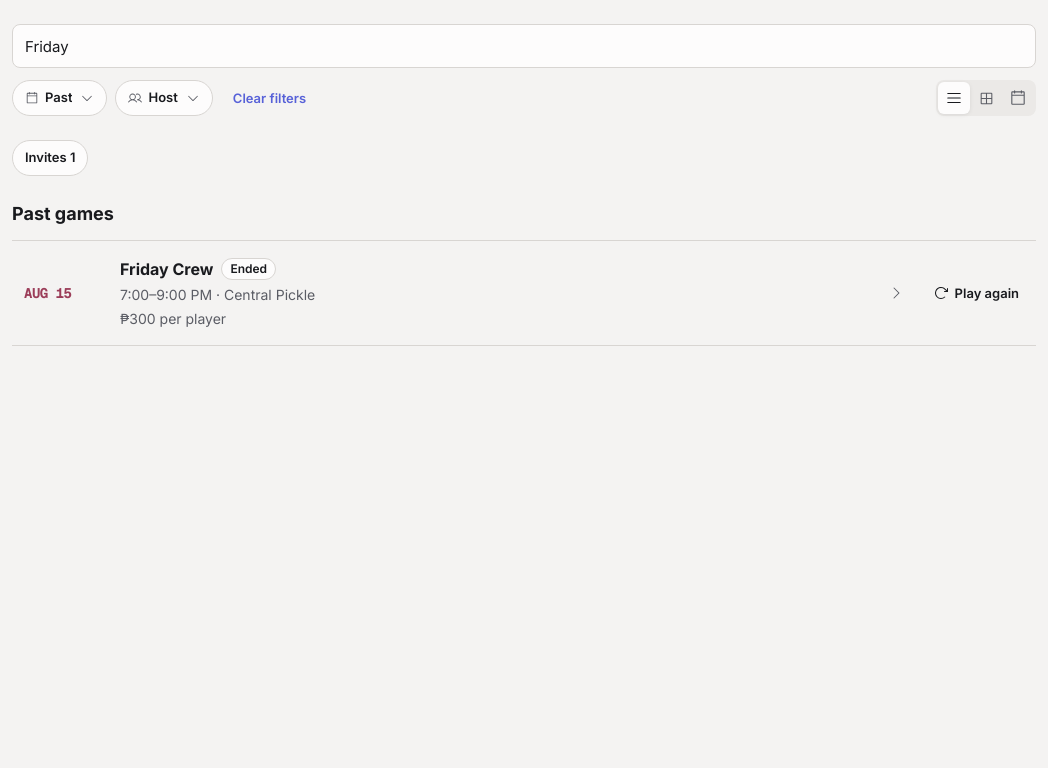
Scenario: GameCollection › keeps invitations independent from every library filter
Expected: the text "Sunday Open Play" is not shown
Expected: the heading "Friday Crew" is shown, [120, 257, 213, 281]
Step 1. Click the button "Invites 1" → coordinates (50, 158), box [12, 140, 88, 176]
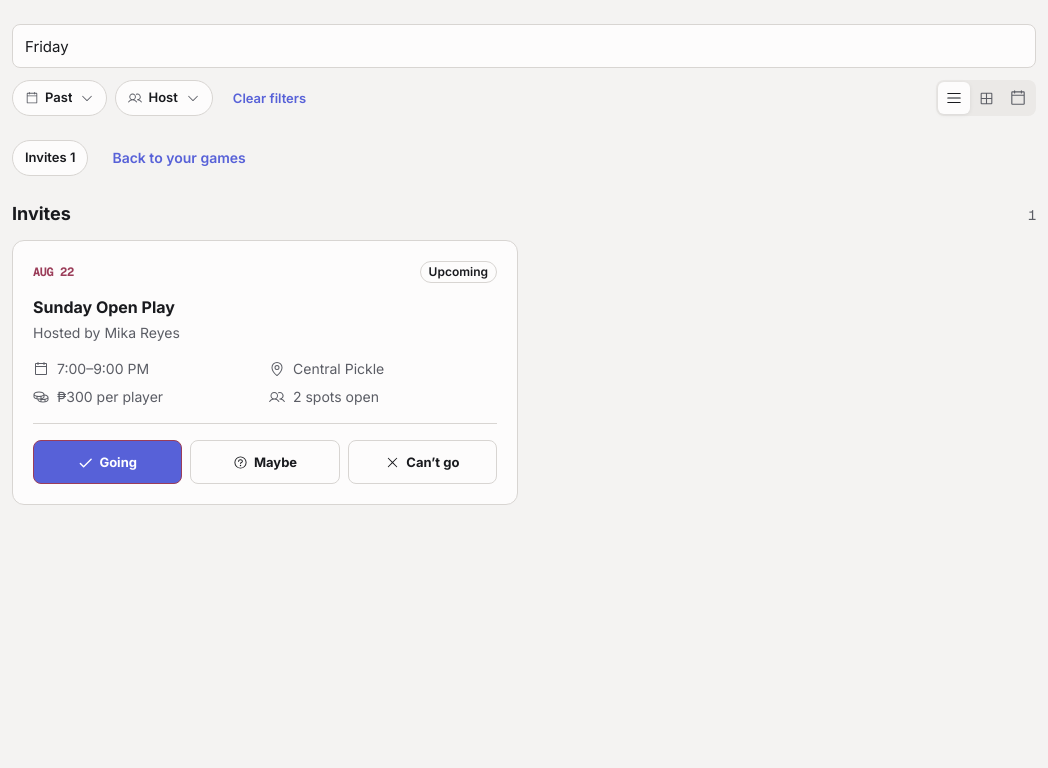
Expected: the link "Sunday Open Play" is shown, [33, 295, 175, 319]
Expected: the link "Friday Crew" is gone
Step 2. Click the button "Back to your games" → coordinates (179, 158), box [100, 140, 258, 176]
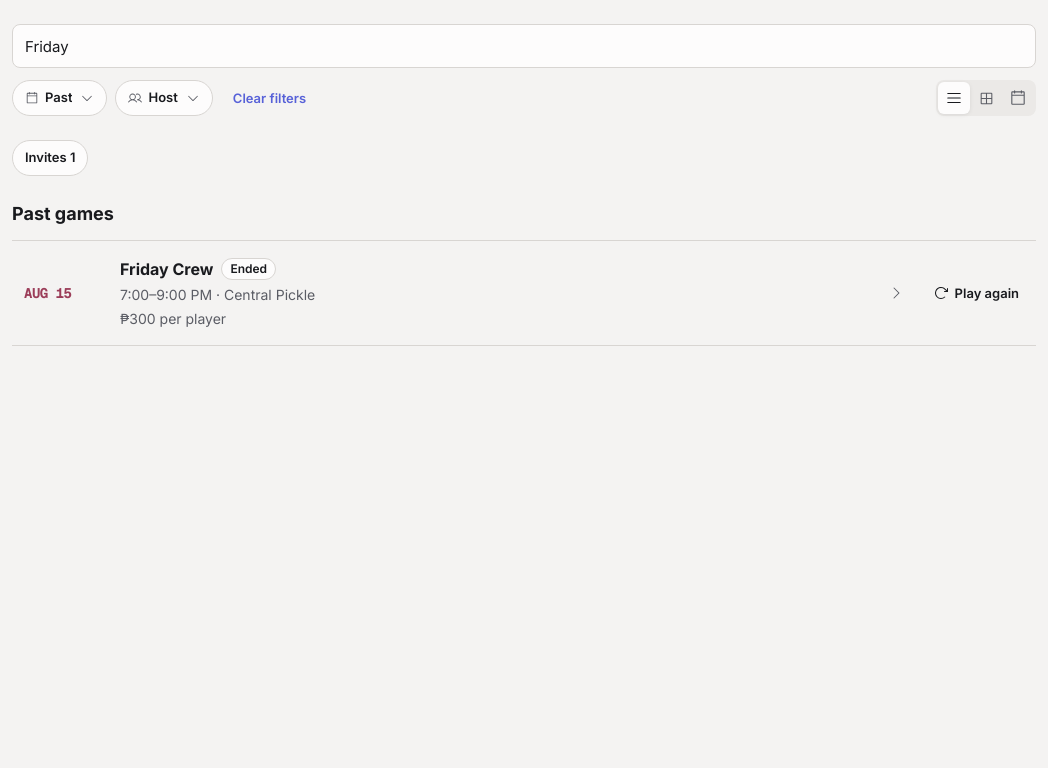
Expected: the heading "Friday Crew" is shown, [120, 257, 213, 281]
Expected: the text "Ended" is shown, [221, 258, 276, 280]
Step 3. Click the button named "Grid view" → coordinates (986, 98), box [970, 82, 1002, 114]
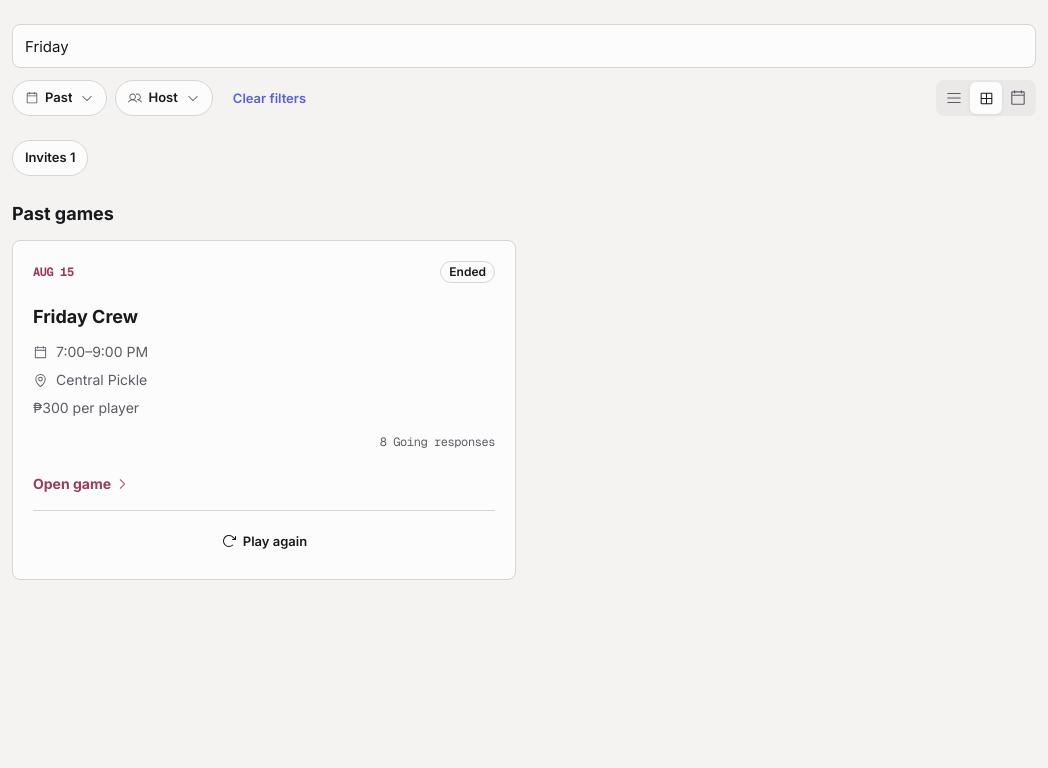
Expected: the text "8 Going responses" is shown, [380, 434, 495, 450]
